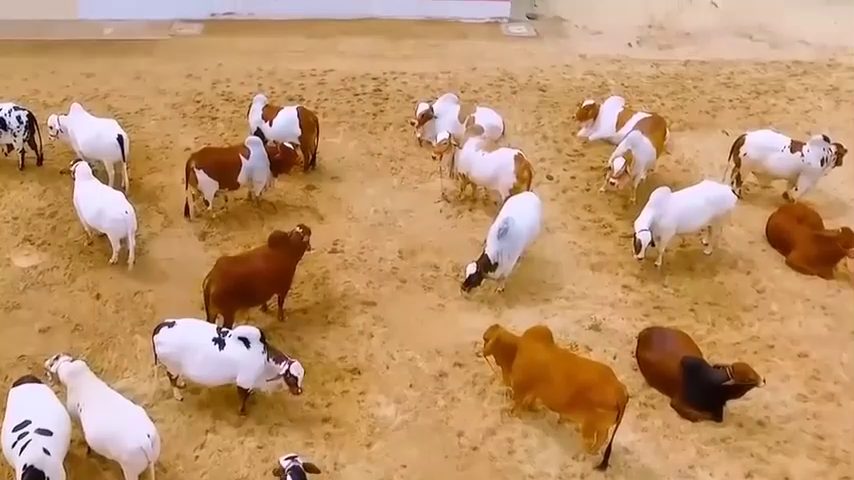bo: (479, 318, 628, 472), (144, 309, 312, 416), (632, 309, 774, 433), (38, 343, 169, 476), (196, 210, 324, 327), (168, 129, 300, 218), (619, 172, 736, 269), (57, 159, 151, 272), (721, 120, 850, 202), (45, 93, 141, 202), (459, 189, 549, 299), (432, 121, 533, 215), (2, 366, 76, 480), (760, 191, 851, 282), (603, 112, 674, 217), (408, 83, 506, 156), (242, 90, 323, 175), (568, 90, 675, 150), (4, 94, 47, 175), (265, 446, 320, 480)
